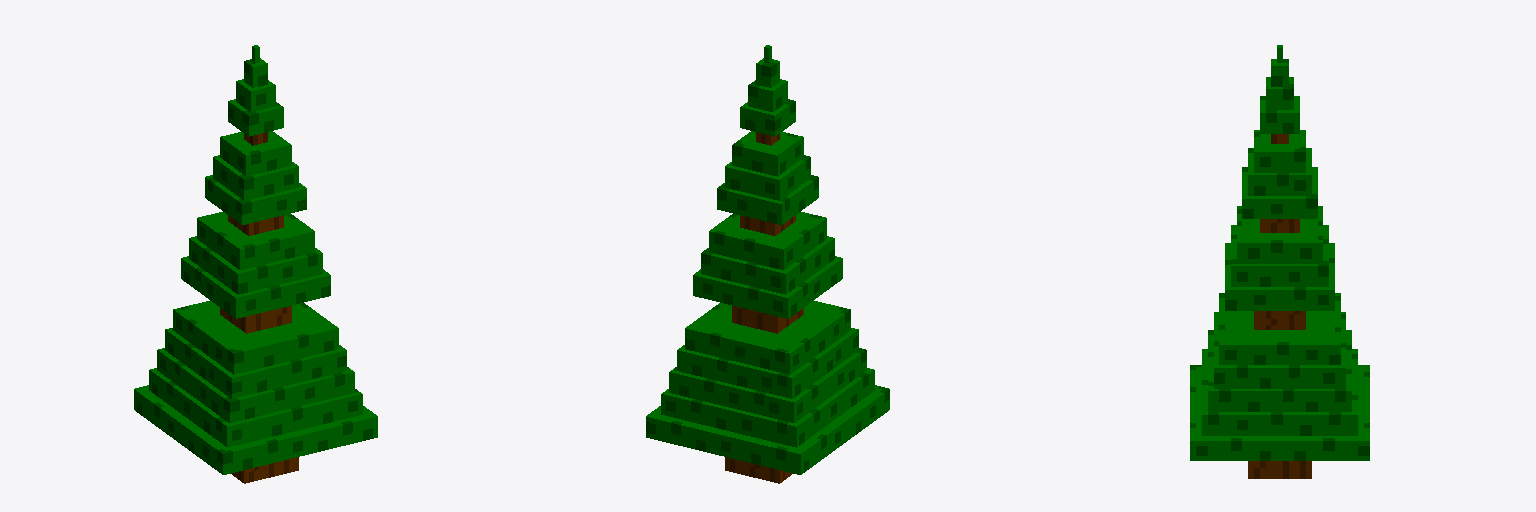
3 views of the same model, side by side, from view 1: azimuth 30°, elevation 25°; view 2: azimuth 150°, elevation 25°; view 3: azimuth 270°, elevation 25° (orthographic).
Visible parts, largest first — view 1: object 1; view 2: object 1; view 3: object 1.
Part boxes in pixels (left/top/right/bottom): object 1: left=134, top=45, right=377, bottom=483; object 1: left=646, top=45, right=889, bottom=483; object 1: left=1190, top=45, right=1369, bottom=478.
Bounding box in the file's own units: 3.1 × 8 × 3.1.
Materials: 1 (1 with a texture image).